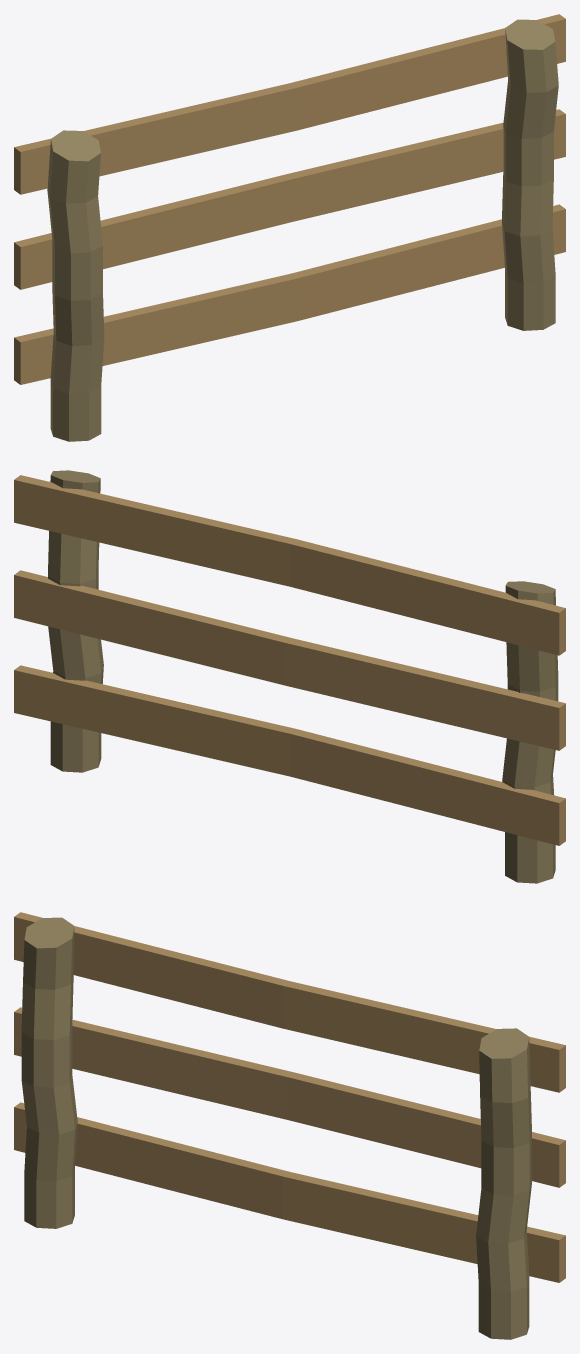
The model's file is cerca.fbx.
3 renders of one model, top to bottom at view 1: azimuth 30°, elevation 25°; view 2: azimuth 150°, elevation 25°; view 3: azimuth 330°, elevation 25°, orthographic.
Visible parts, largest first — view 1: Cerca; view 2: Cerca; view 3: Cerca.
Part boxes in pixels (bbox=[...]): Cerca: bbox=[14, 14, 565, 441]; Cerca: bbox=[14, 470, 565, 883]; Cerca: bbox=[14, 912, 565, 1339].
Size of the model in its own units: 192 by 98.07 by 20.39.
